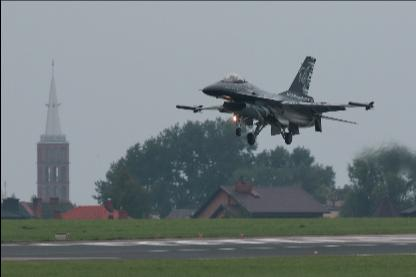F14: (174, 55, 374, 144)
